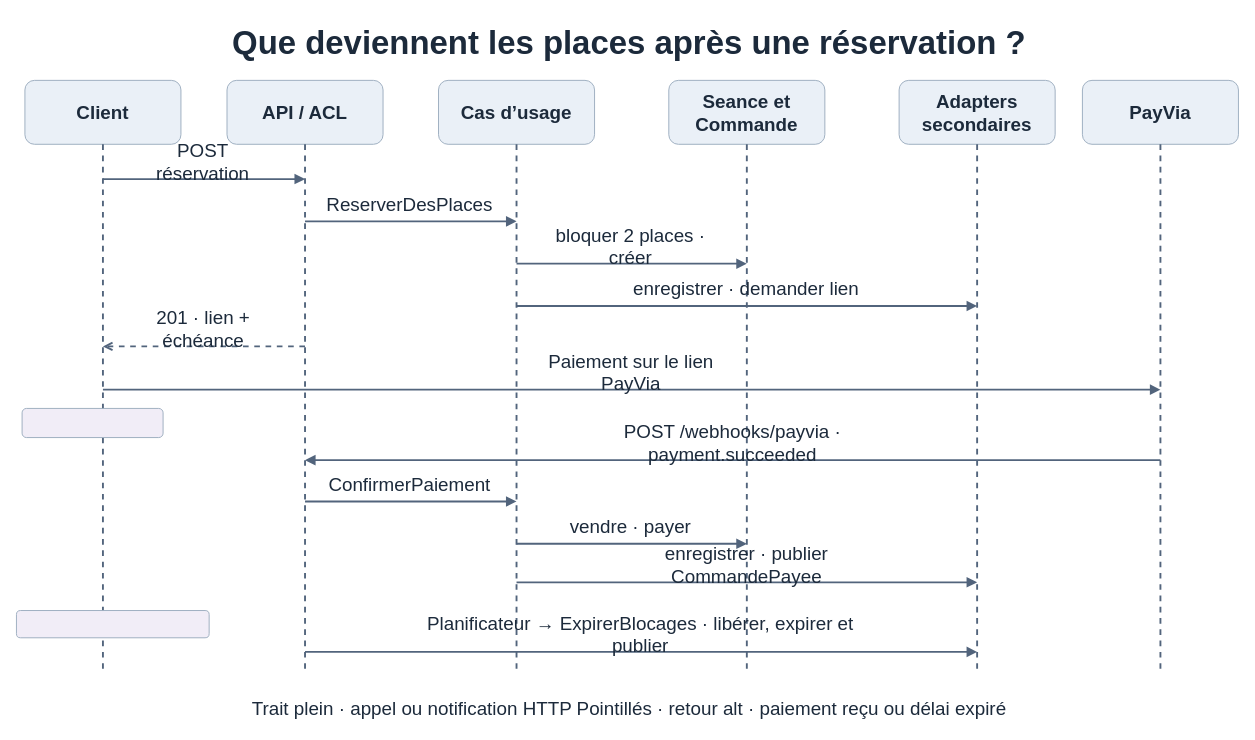
The diagram is 1255 pixels wide and 740 high, and some of its shapes have lost their labels. Each missing label, with the centre of its shape:
"alt · paiement" goes at point 92,422.
"sinon · 10 min écoulées" goes at point 112,624.
